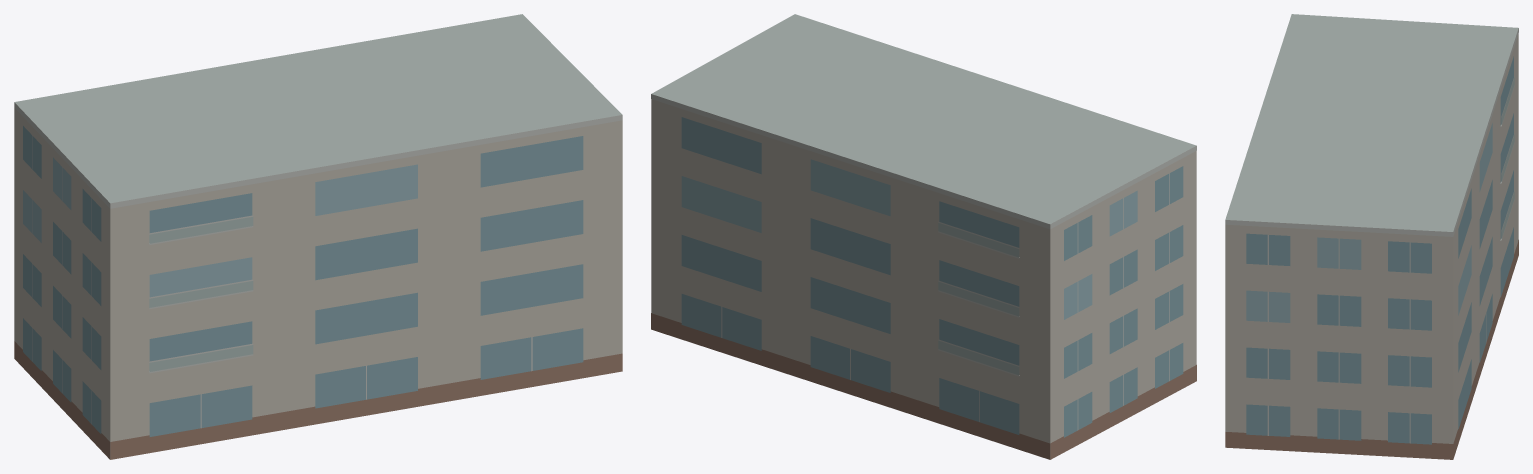
File: survey-upis-32747847.glb
3 renders of one model, left to right at view 1: azimuth 30°, elevation 25°; view 2: azimuth 150°, elevation 25°; view 3: azimuth 270°, elevation 25°, orthographic. The views are drawn at different scales.
Parts seen in each view (by area): view 1: survey-upis-32747847.tmp; view 2: survey-upis-32747847.tmp; view 3: survey-upis-32747847.tmp.
Boxes of the visible parts, x1,y1,x2,y2 form: survey-upis-32747847.tmp: (14,14,622,459); survey-upis-32747847.tmp: (651,14,1196,459); survey-upis-32747847.tmp: (1225,14,1518,459).
Bounding box in the file's own units: 23.58 × 11.48 × 13.41.
